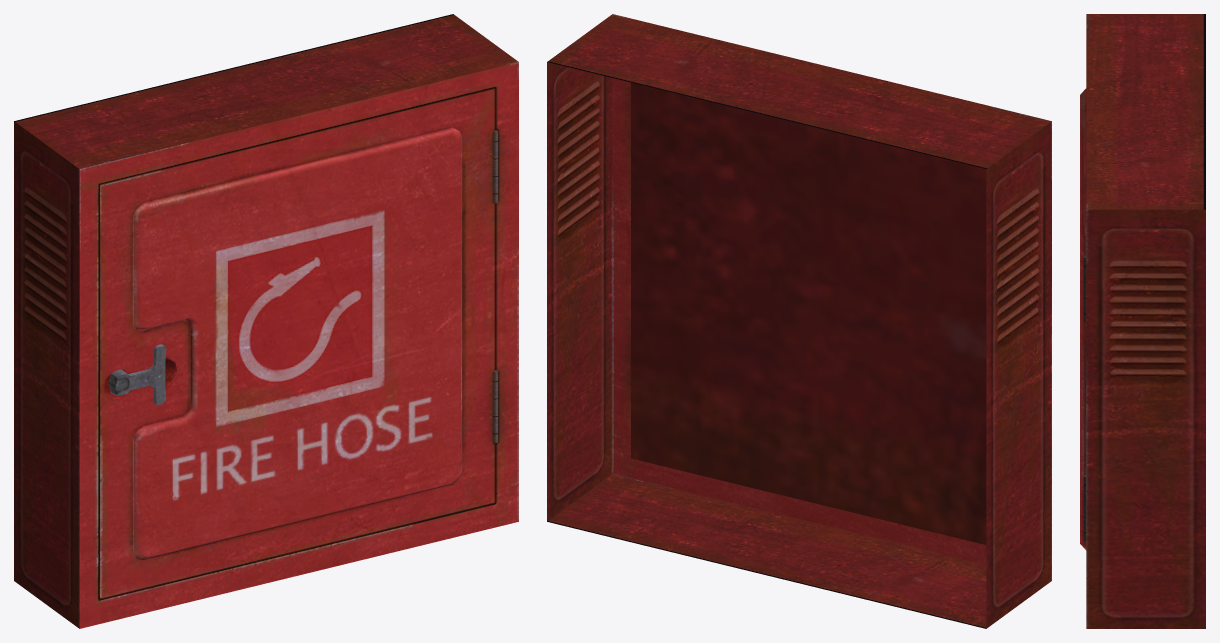
File: fire_hose_box.dae
3 views of the same model, side by side, from view 1: azimuth 30°, elevation 25°; view 2: azimuth 150°, elevation 25°; view 3: azimuth 270°, elevation 25° (orthographic). The views are drawn at different scales.
Parts seen in each view (by area): view 1: polySurface238, polySurface235; view 2: polySurface235; view 3: polySurface235, polySurface238.
Boxes of the visible parts, x1,y1,x2,y2 form: polySurface238: (100, 88, 498, 598); polySurface235: (14, 14, 518, 628); polySurface235: (547, 14, 1051, 628); polySurface235: (1086, 14, 1205, 628); polySurface238: (1080, 88, 1086, 550).
Bounding box in the file's own units: 96.42 × 96.42 × 26.24.
